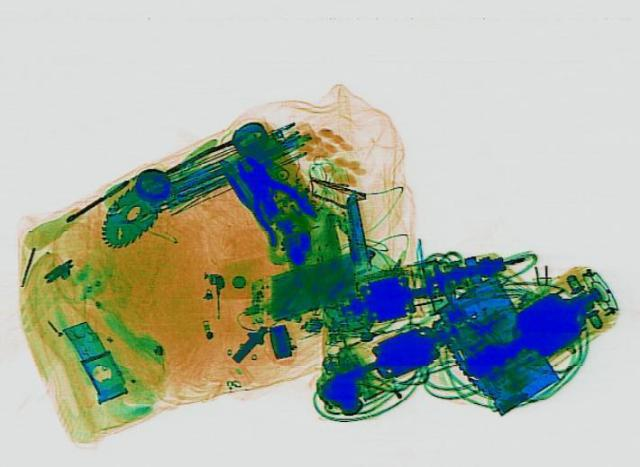Pliers: (210, 148, 330, 245)
